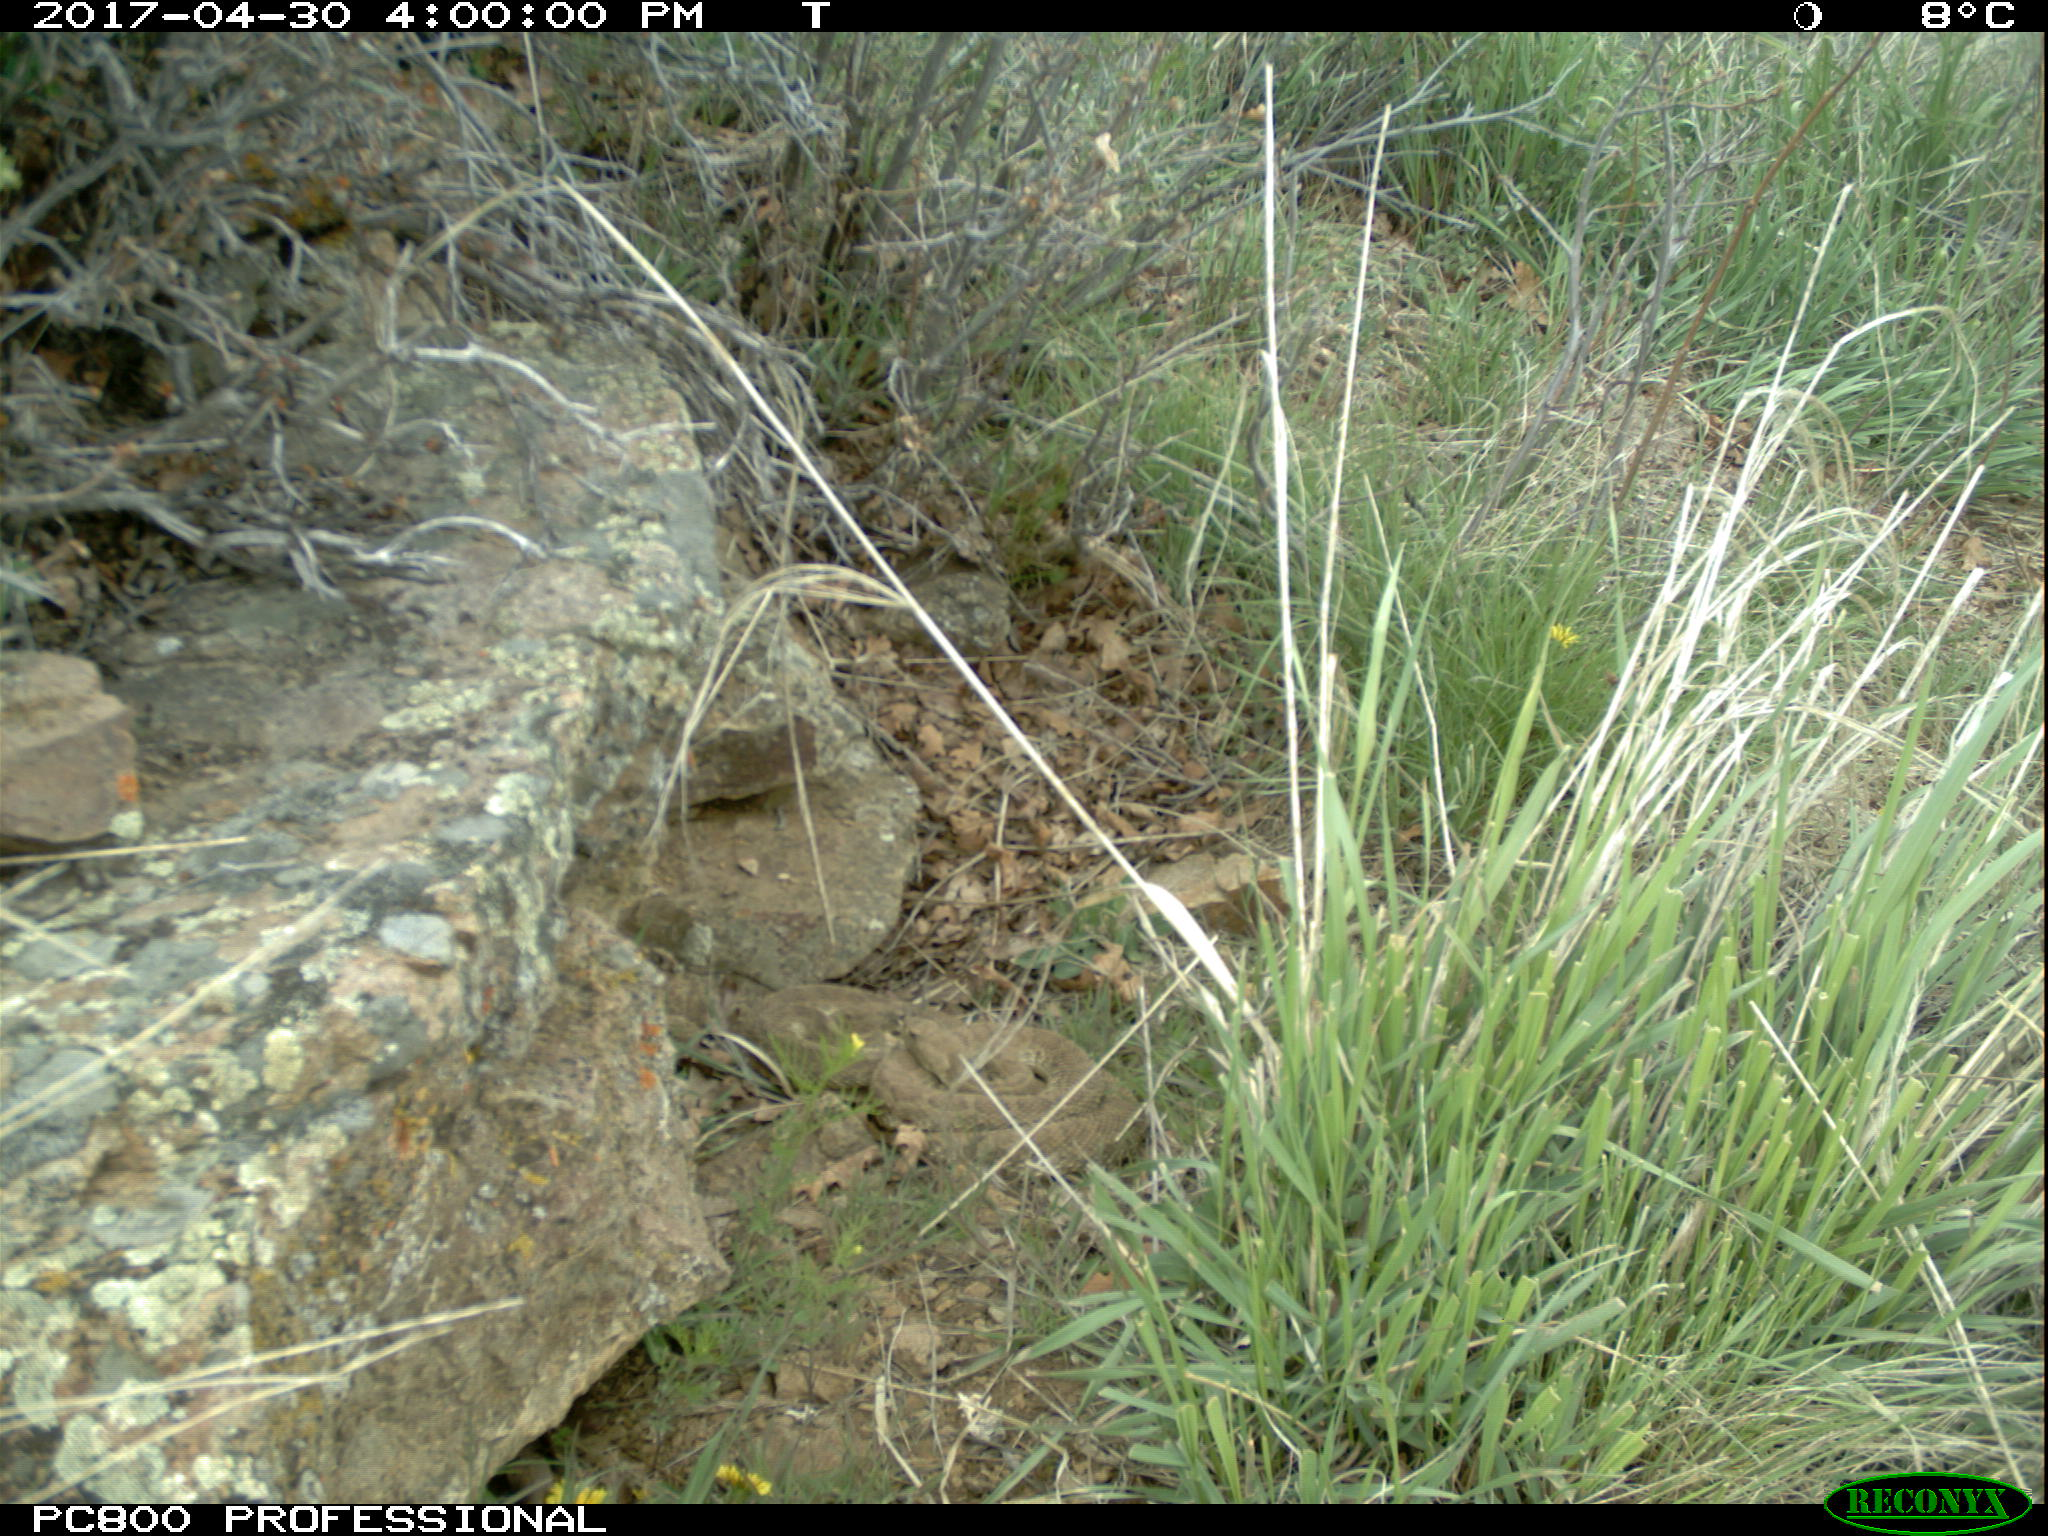snake: (735, 983, 1156, 1184)
